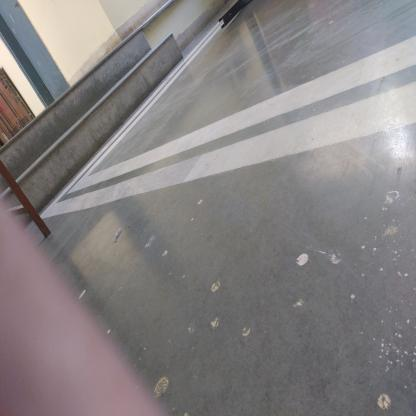stairs: (28, 99, 85, 184)
